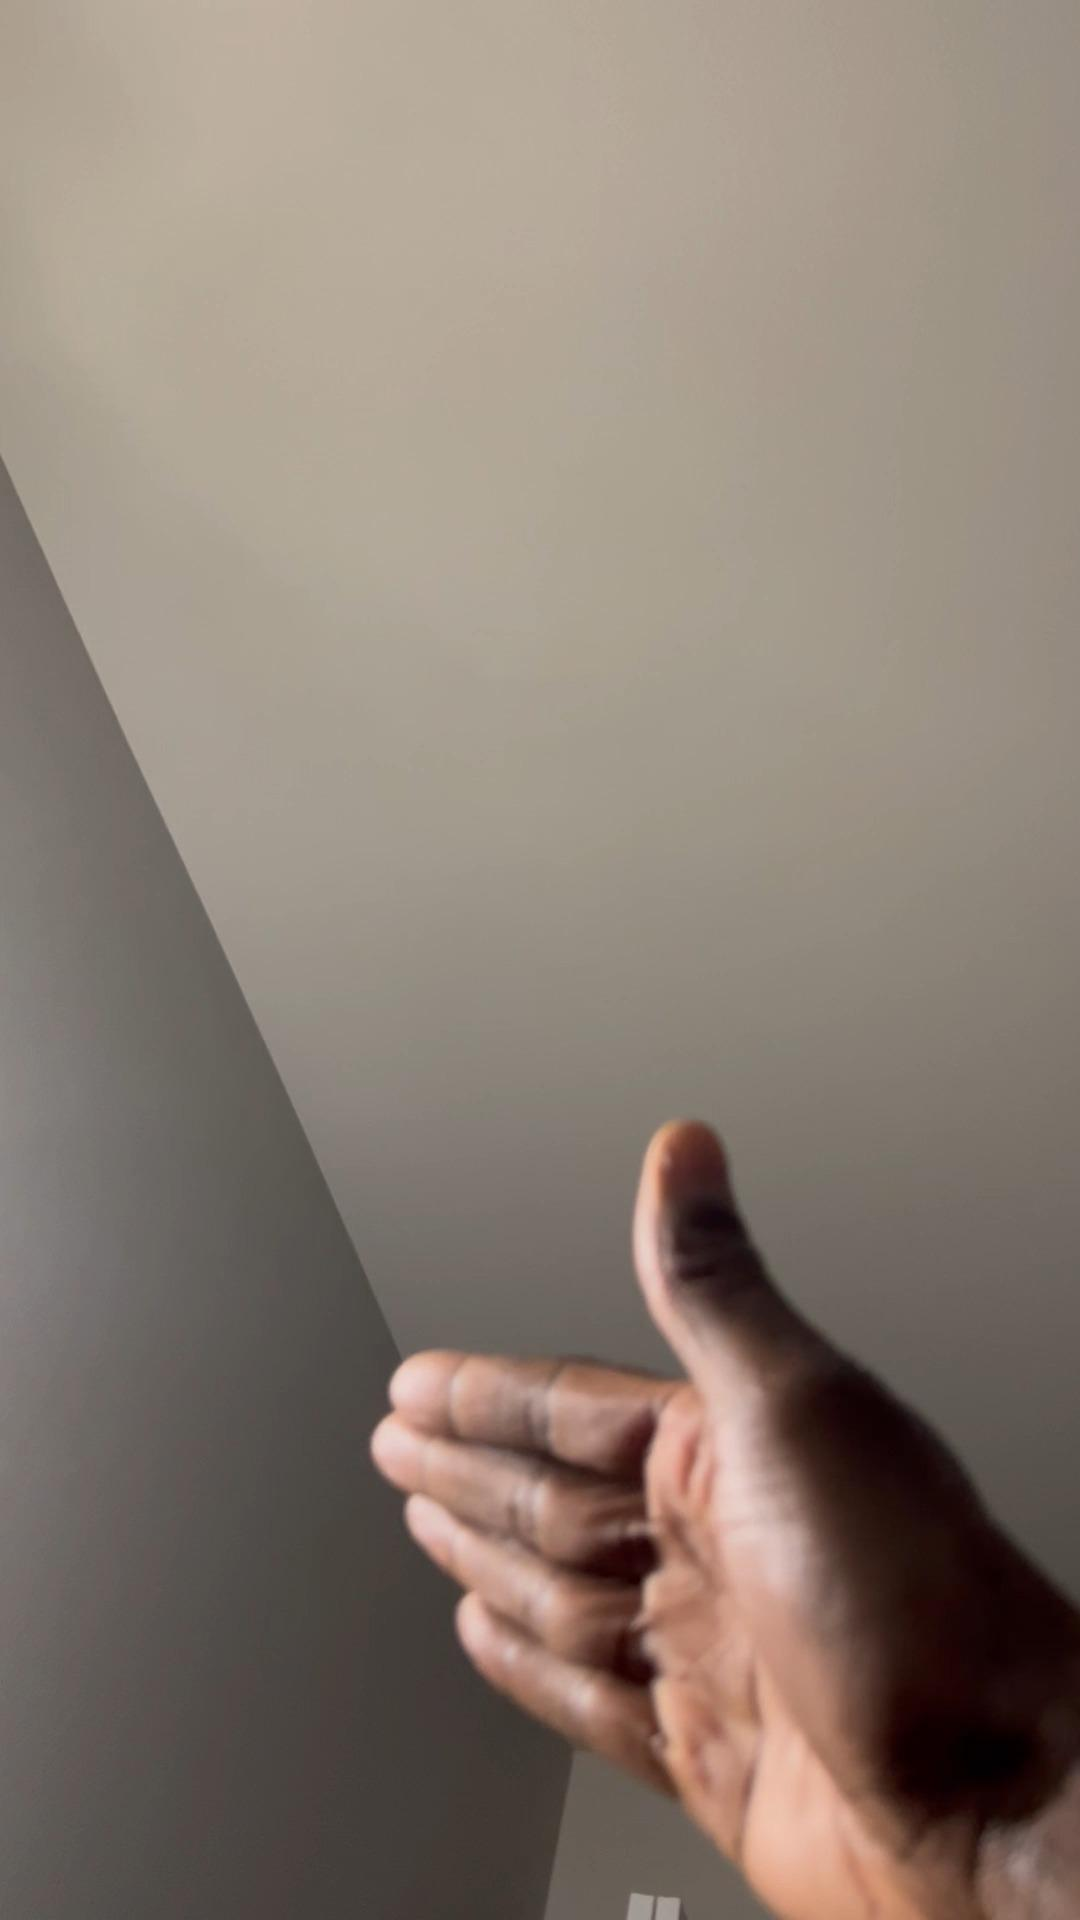Paper: (371, 1113, 1077, 1920)
